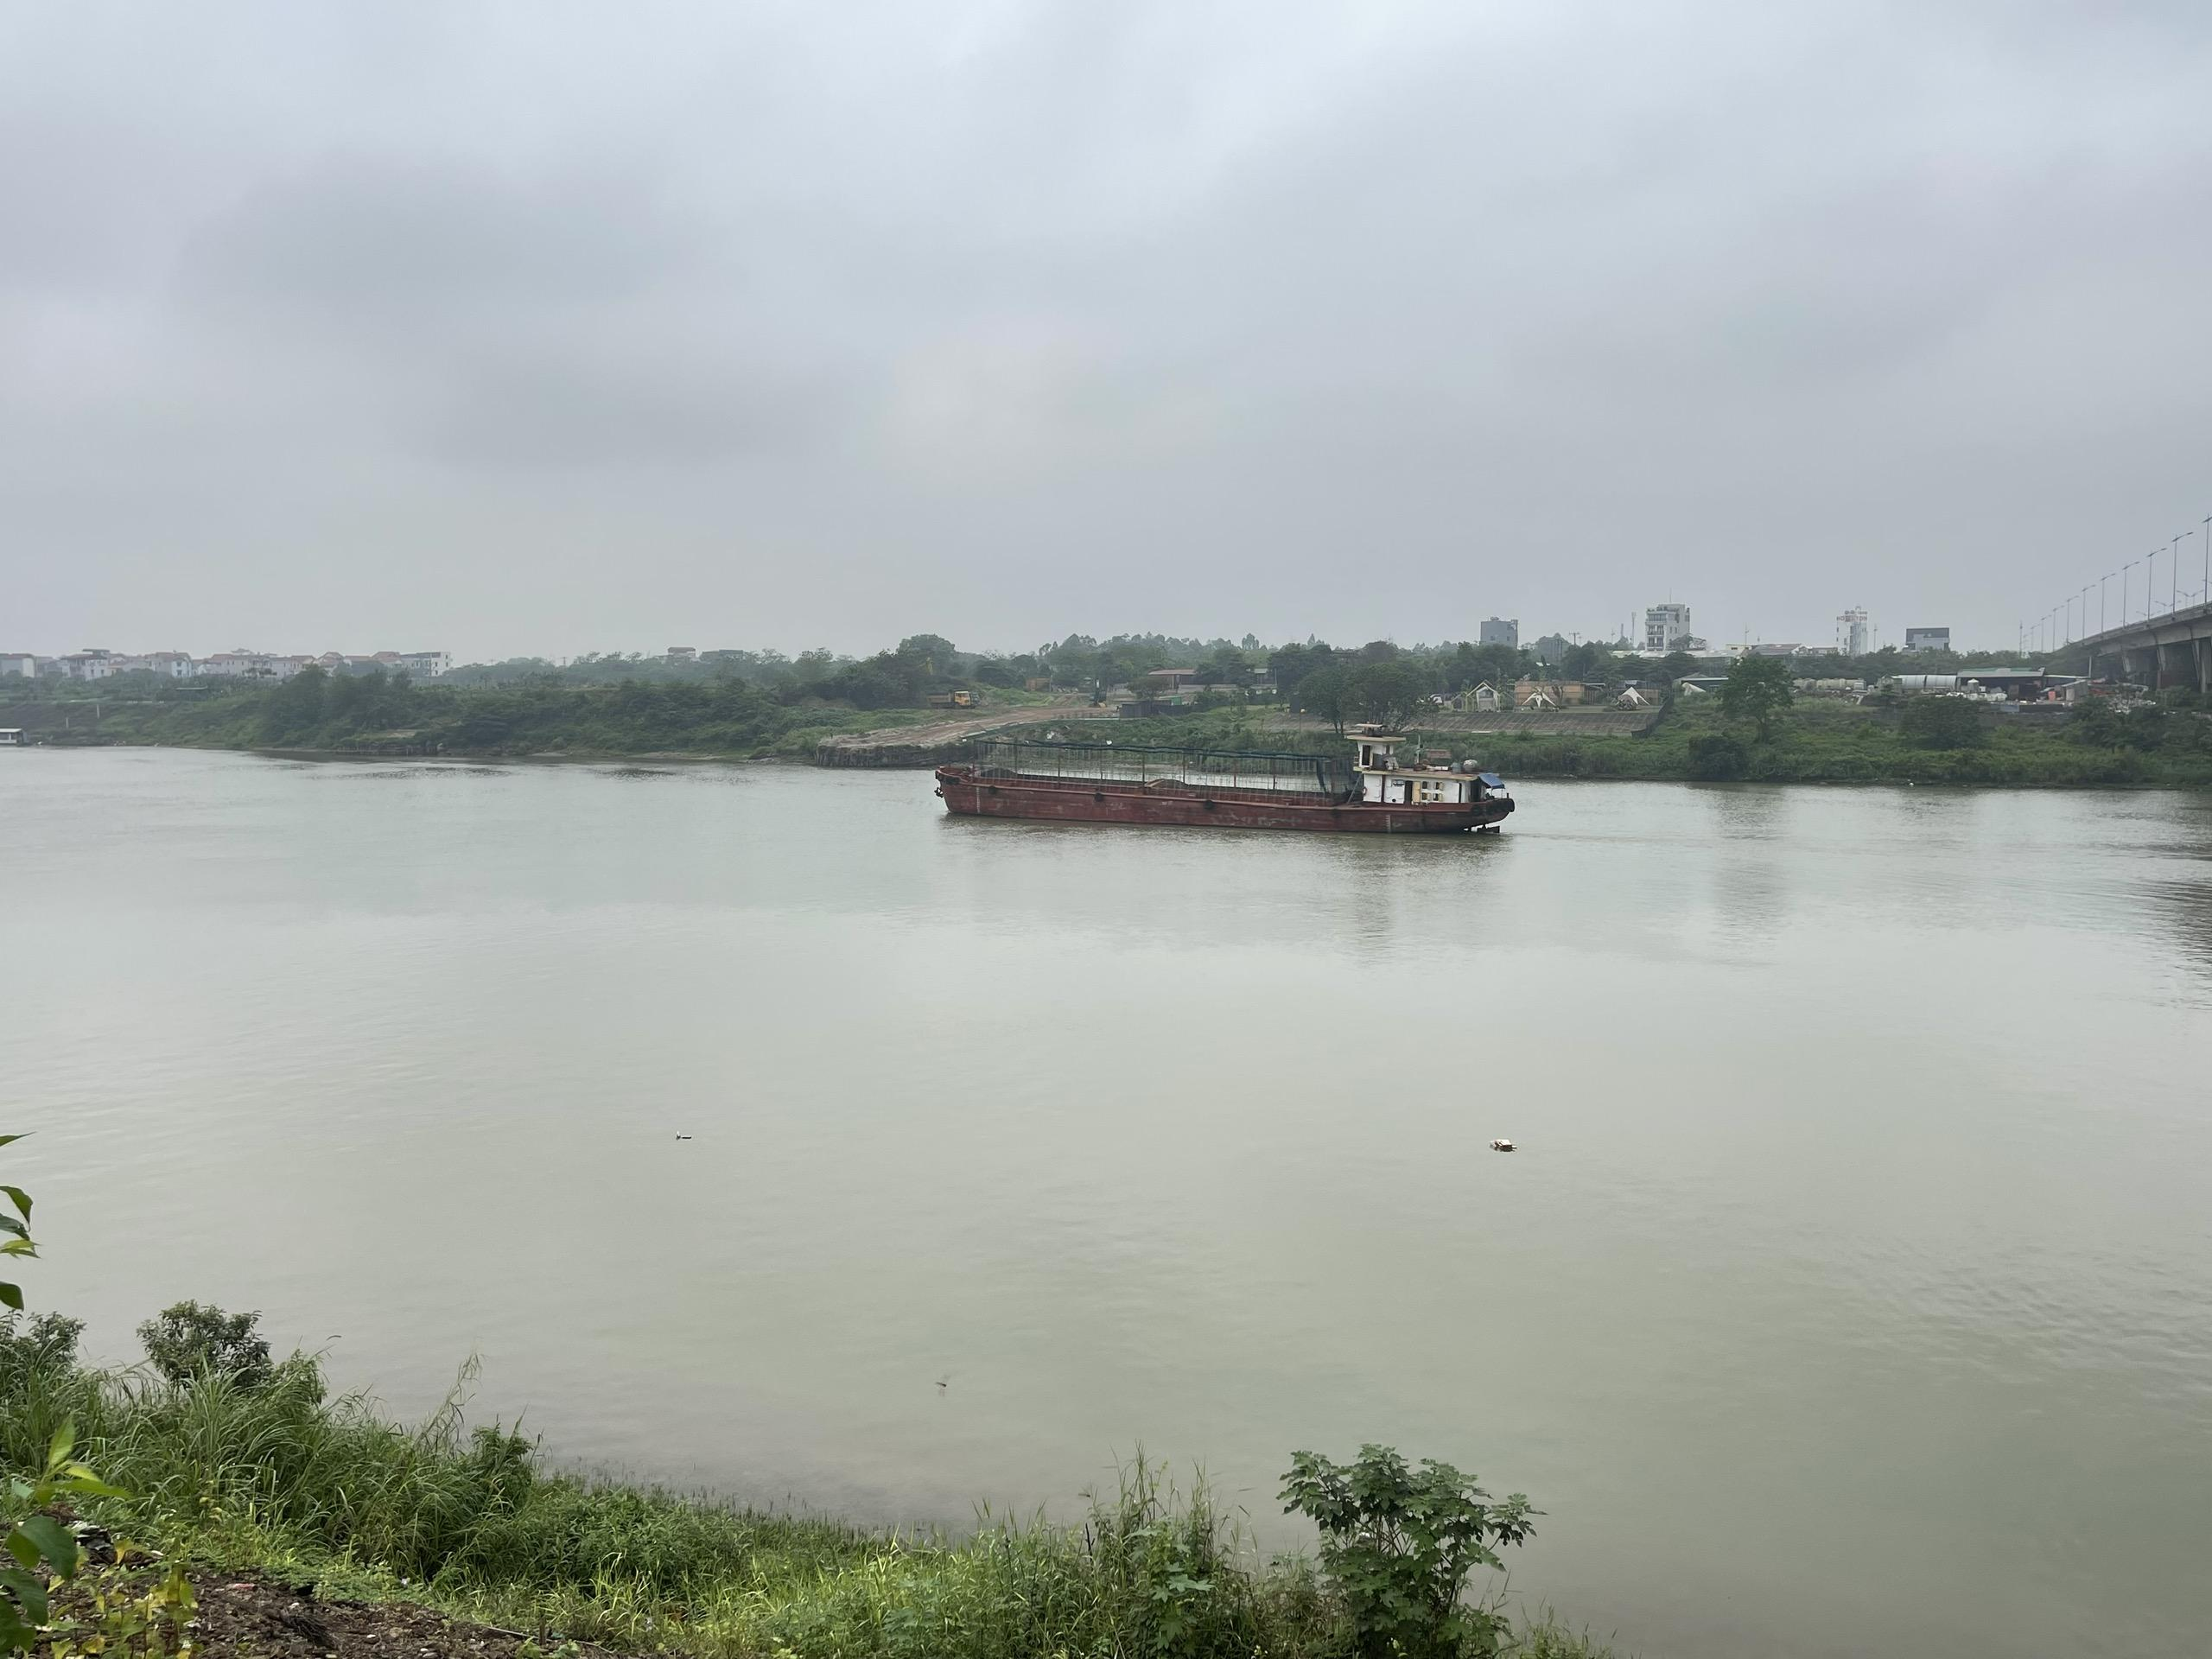Ship: (927, 721, 1521, 842)
